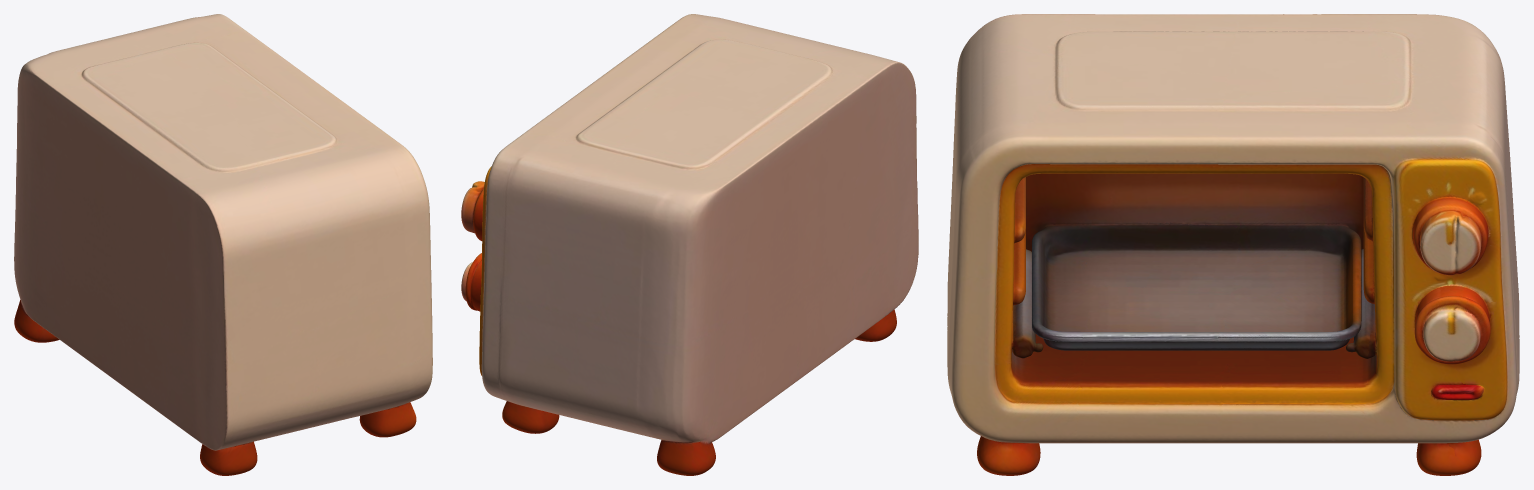
The model's file is tripo_convert_4bb9e1a7-7bda-4268-b0c5-ff13f59393a2.fbx.
The picture shows the model from 3 angles, left to right: view 1: azimuth 30°, elevation 25°; view 2: azimuth 150°, elevation 25°; view 3: azimuth 270°, elevation 25°; orthographic projection. The views are drawn at different scales.
Parts seen in each view (by area): view 1: tripo_node_4bb9e1a7; view 2: tripo_node_4bb9e1a7; view 3: tripo_node_4bb9e1a7.
Part boxes in pixels (<box>): tripo_node_4bb9e1a7: <box>14,14,432,475</box>; tripo_node_4bb9e1a7: <box>461,14,918,475</box>; tripo_node_4bb9e1a7: <box>947,14,1519,475</box>.
Size of the model in its own units: 0.6085 by 0.6714 by 1.
